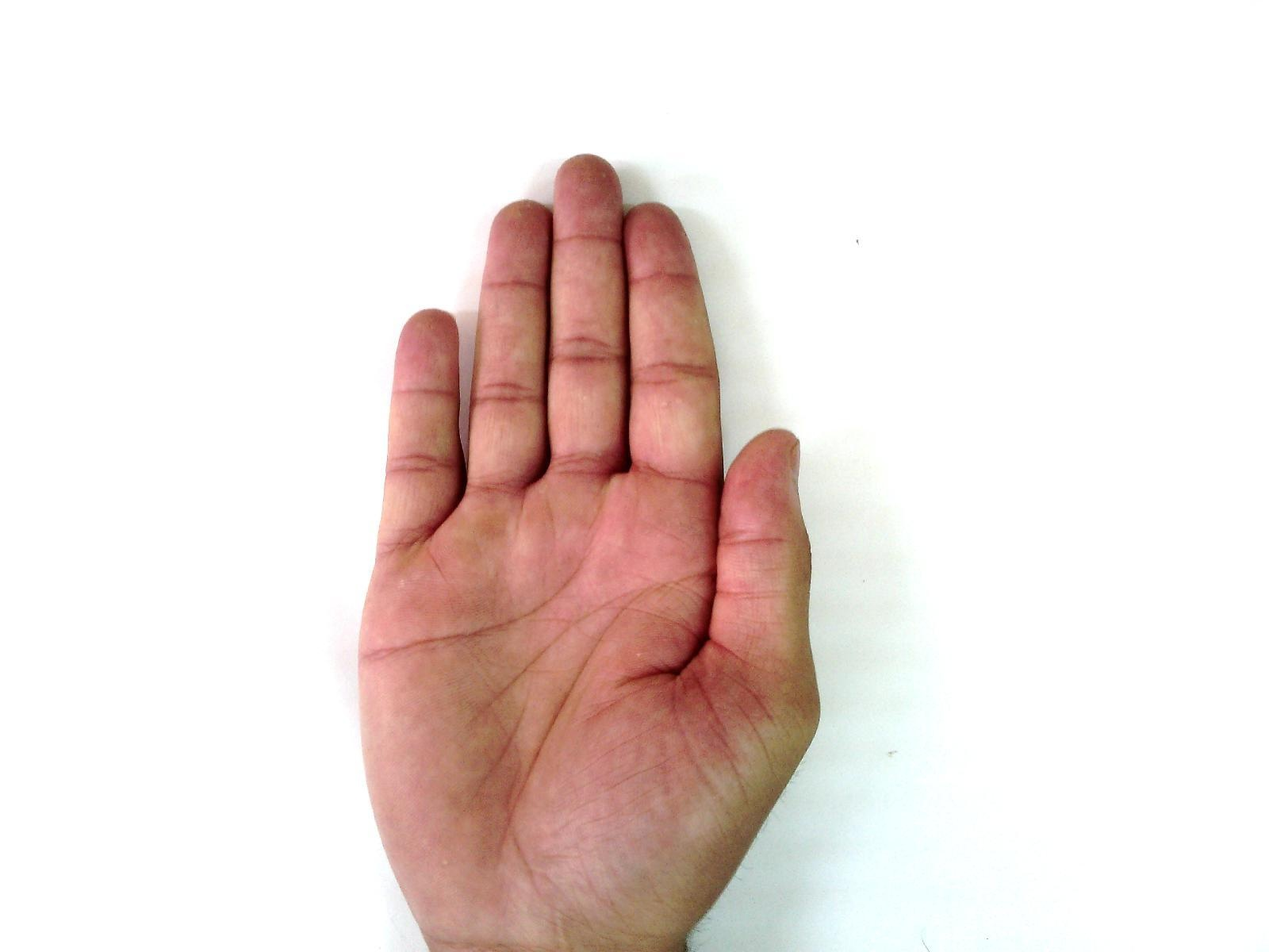open_palm: (354, 153, 824, 951)
